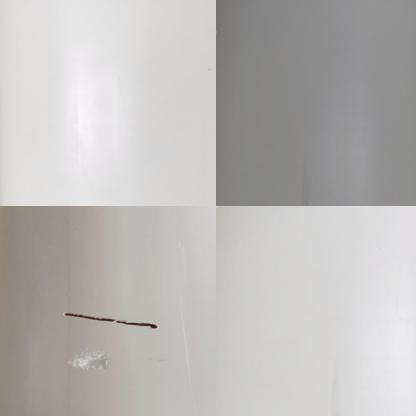fengxi: (60, 306, 158, 329)
sunshang: (63, 351, 126, 372)
